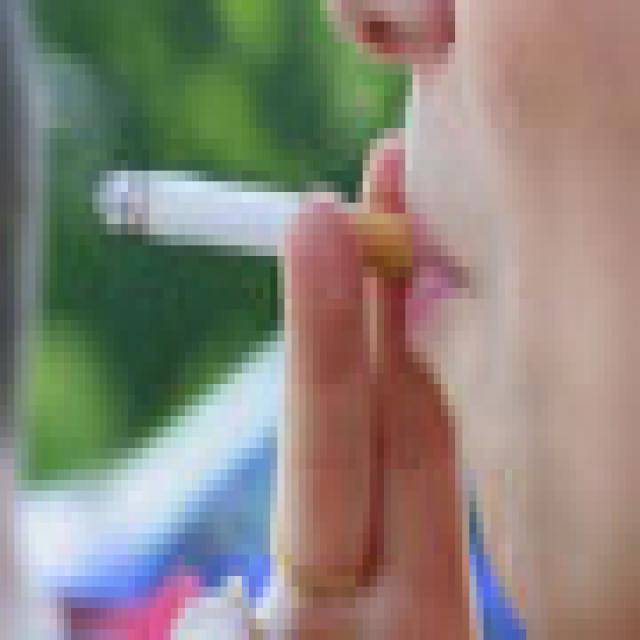cigarette: (90, 161, 423, 289)
